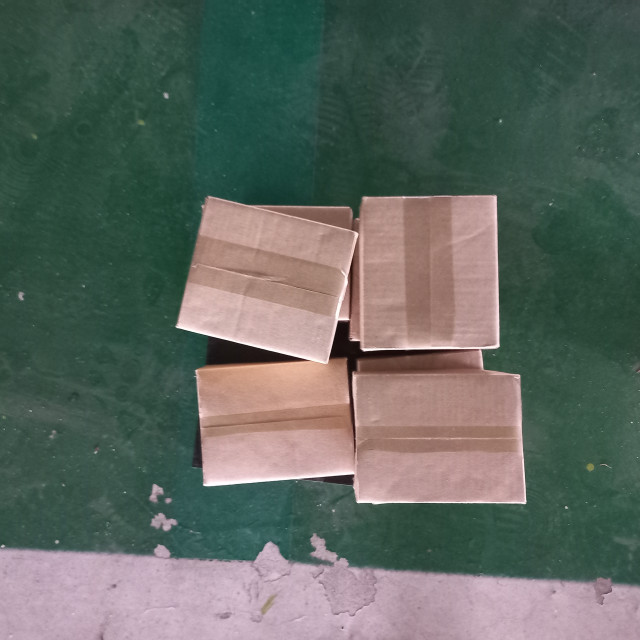box: (174, 192, 359, 365), (350, 357, 528, 507), (354, 190, 501, 353), (191, 349, 356, 489)
